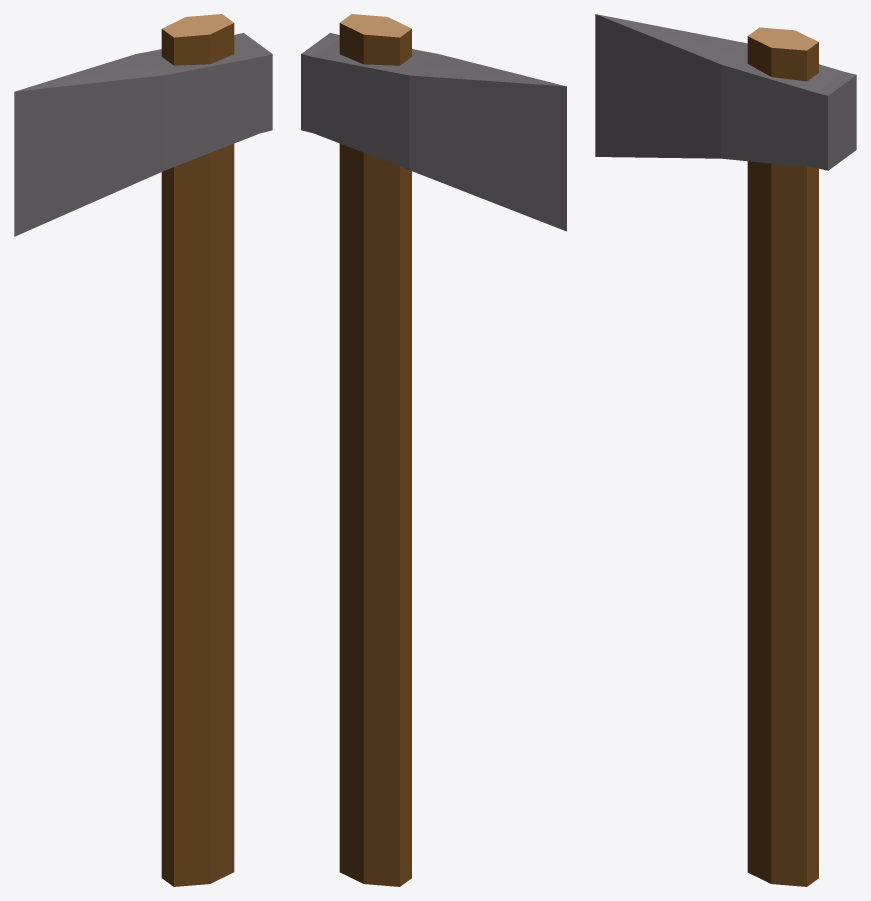
Rendered from axe.glb.
3 renders of one model, left to right at view 1: azimuth 30°, elevation 25°; view 2: azimuth 150°, elevation 25°; view 3: azimuth 330°, elevation 25°, orthographic.
Visible parts, largest first — view 1: Cylinder, Cube.001; view 2: Cylinder, Cube.001; view 3: Cylinder, Cube.001.
Part boxes in pixels (box(x1,y1,x2,y2)): Cylinder: box(161, 14, 234, 886); Cube.001: box(14, 33, 272, 236); Cylinder: box(339, 14, 411, 886); Cube.001: box(301, 32, 566, 231); Cylinder: box(747, 27, 818, 886); Cube.001: box(595, 14, 856, 170).
Size of the model in its own units: 3.55 by 11.64 by 0.7234.
